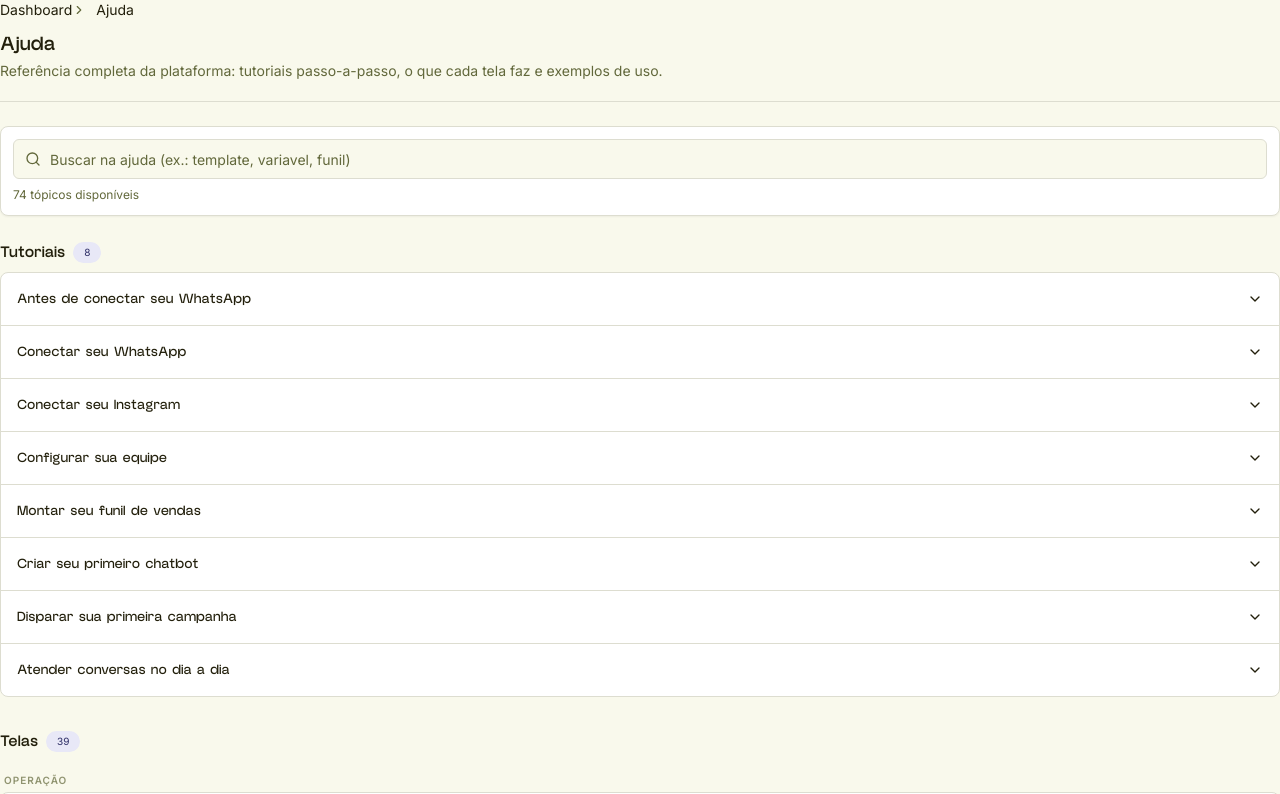
Test case: Help — busca › acha um tutorial por palavra que só existe no corpo de um passo, sem acento
Type "semaforo" into the search field labelled "Buscar na ajuda".
click(640, 159); type("semaforo")  # box [13, 139, 1267, 179]
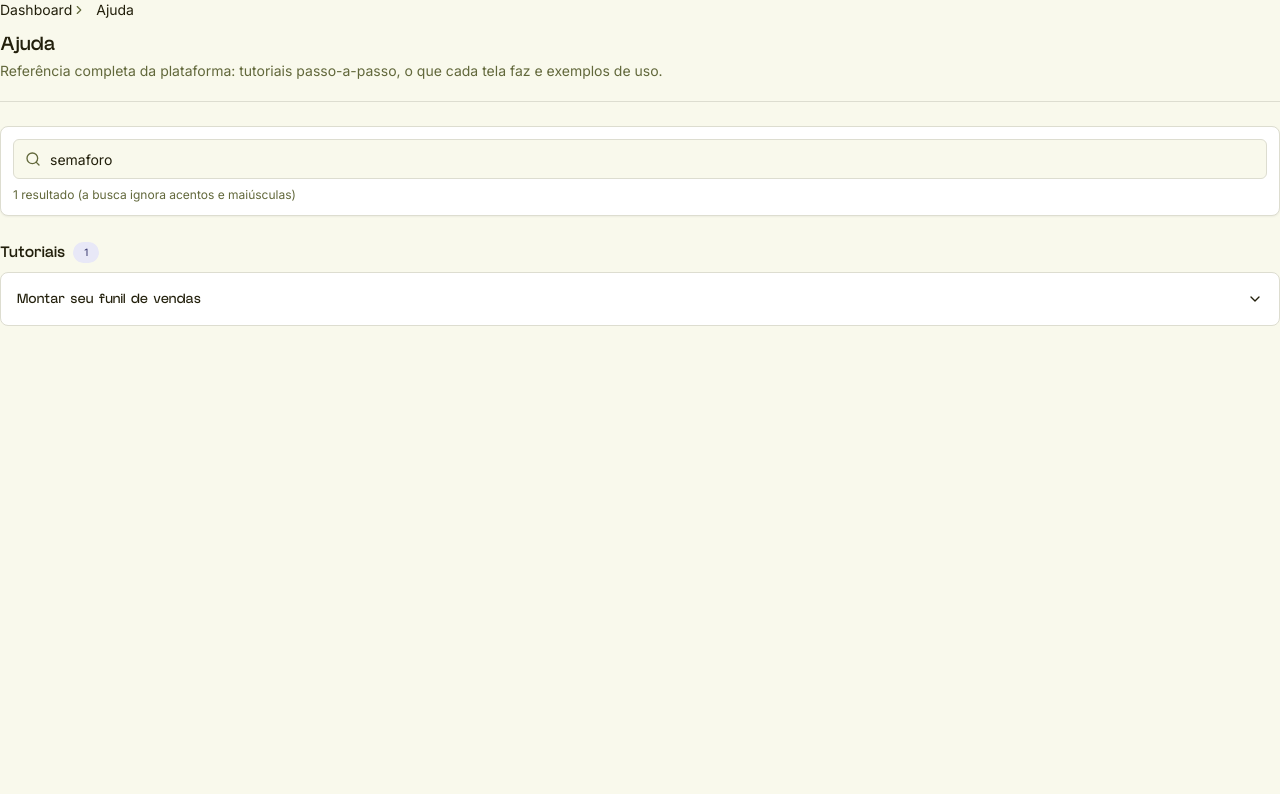
expect the button "Montar seu funil de vendas" is shown: met, box [17, 273, 1263, 325]
expect the button "conectar seu WhatsApp" is gone: met
